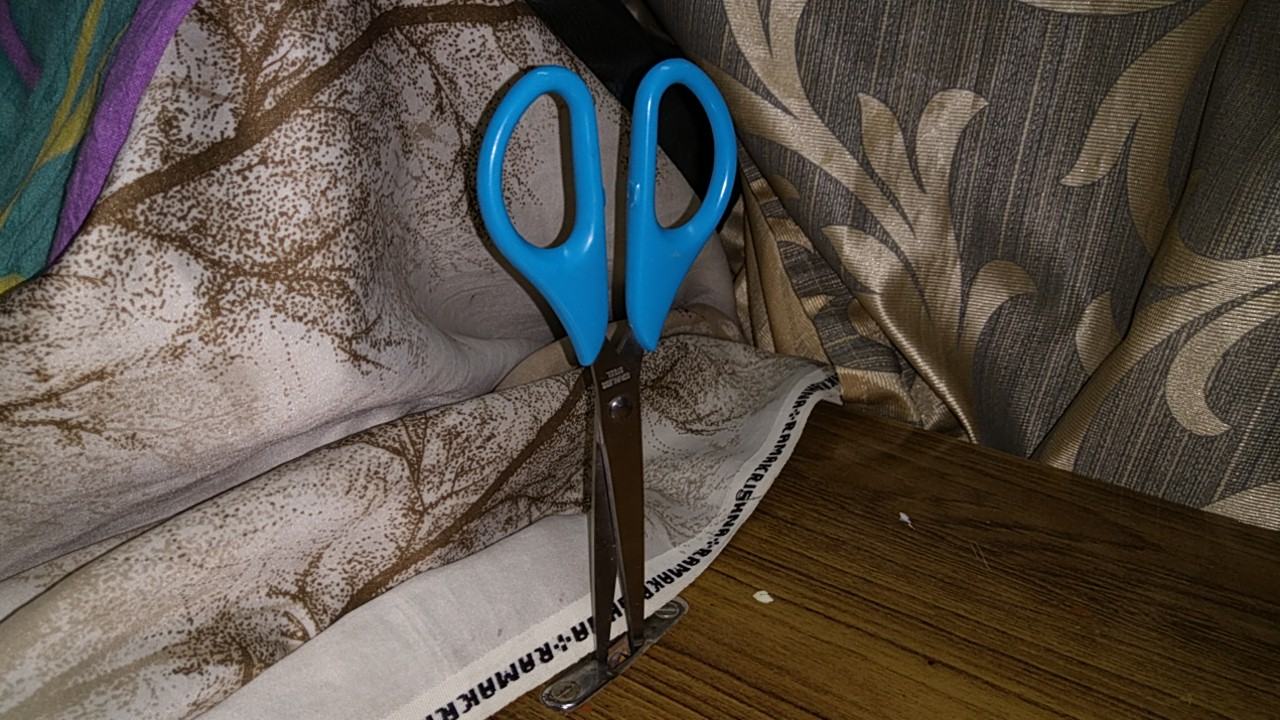scissor: (440, 53, 750, 684)
